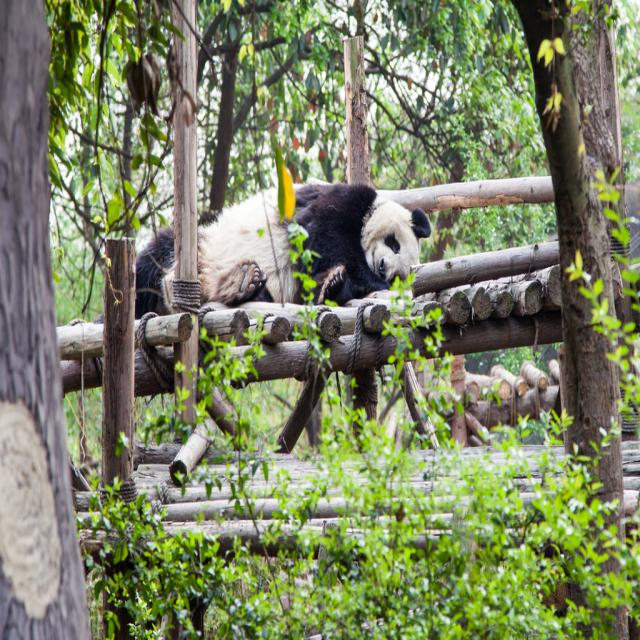panda: (128, 181, 432, 310)
